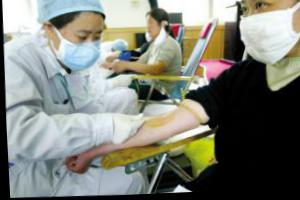OK: (235, 1, 300, 66), (56, 24, 106, 74)
WRONG: (146, 19, 166, 45)
